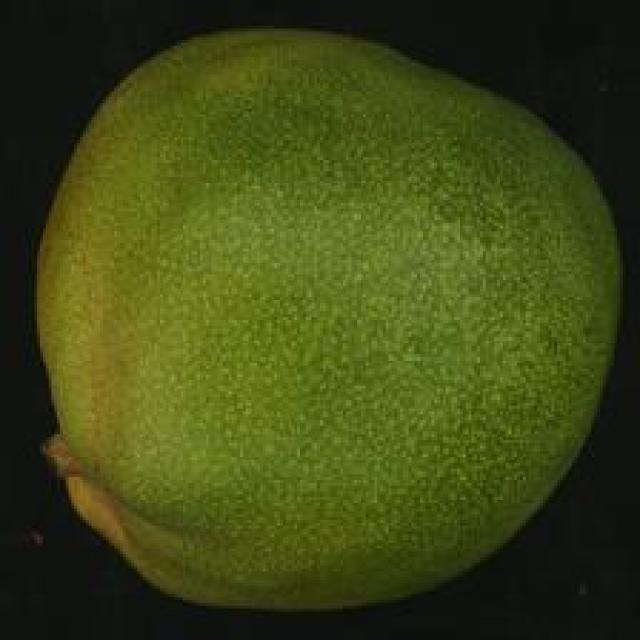Good_Mango: (31, 29, 626, 617)
